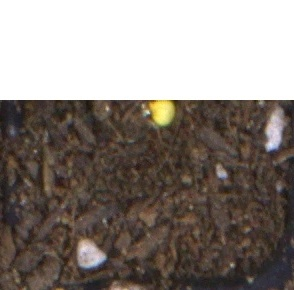chilli seed: (148, 99, 175, 126)
